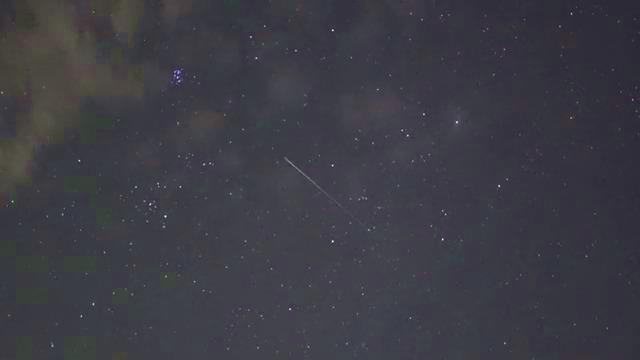meteorite: (276, 154, 342, 205)
